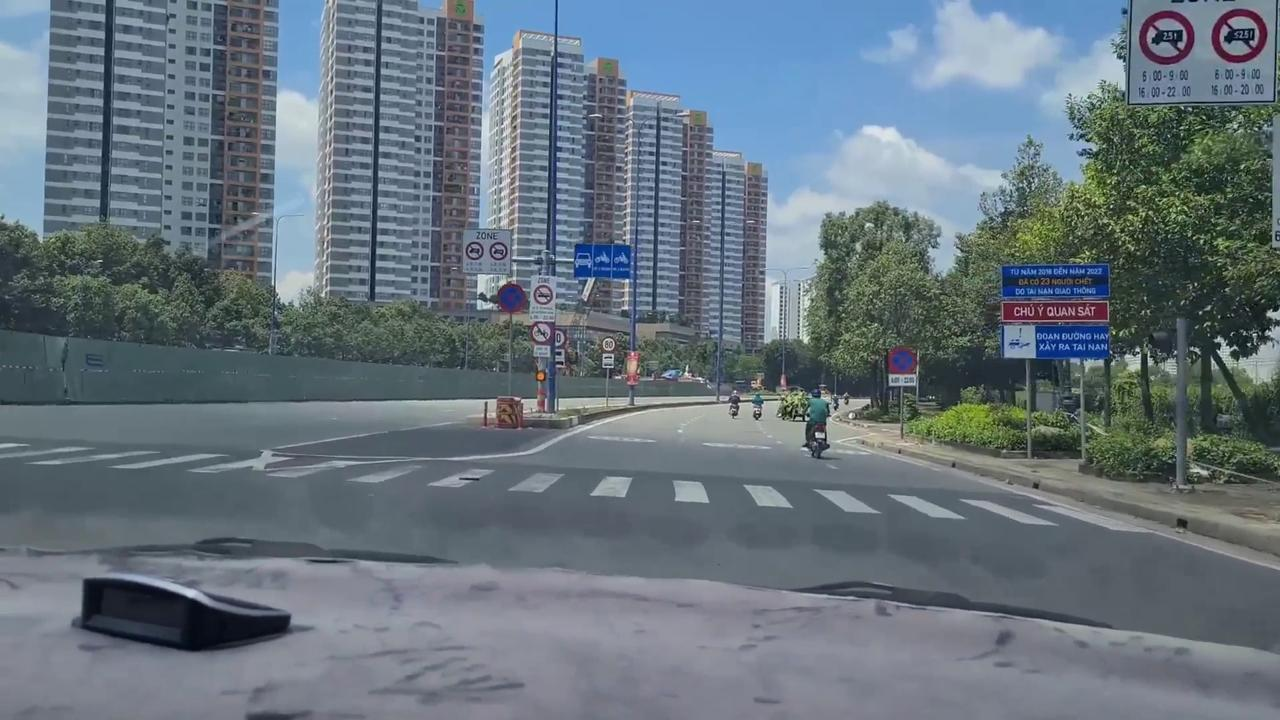Biển phụ: (888, 373, 916, 387), (534, 344, 550, 358), (602, 354, 615, 368)
Cấm cac phương tiện hoạt động trong khung giờ cố định: (1126, 0, 1277, 105), (459, 226, 513, 276), (530, 275, 556, 323)
Cấm dừng - Cấm đỗ: (496, 282, 527, 313), (886, 346, 917, 373)
Cấm xe máy: (530, 320, 554, 344)
Giới hạn tốc độ 80Km/h: (601, 336, 617, 354)
Khác: (999, 264, 1110, 359)
Làn đường cho từng xe: (573, 242, 632, 280)
